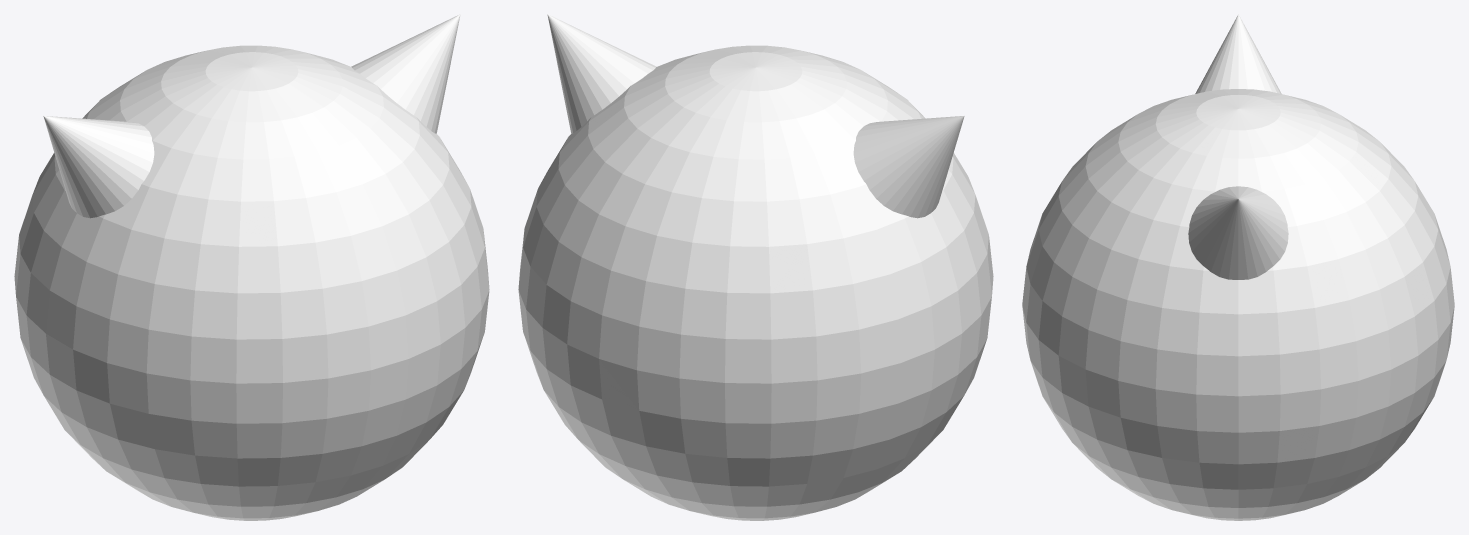
The model's file is enemy.obj.
The picture shows the model from 3 angles, left to right: view 1: azimuth 30°, elevation 25°; view 2: azimuth 150°, elevation 25°; view 3: azimuth 270°, elevation 25°; orthographic projection. The views are drawn at different scales.
Visible parts, largest first — view 1: 球; view 2: 球; view 3: 球.
Part boxes in pixels (x1=…): 球: x1=14, y1=14, x2=489, y2=520; 球: x1=518, y1=14, x2=993, y2=520; 球: x1=1022, y1=14, x2=1454, y2=520.
Size of the model in its own units: 1.01 by 1.01 by 1.
1 material, 1 textured.
